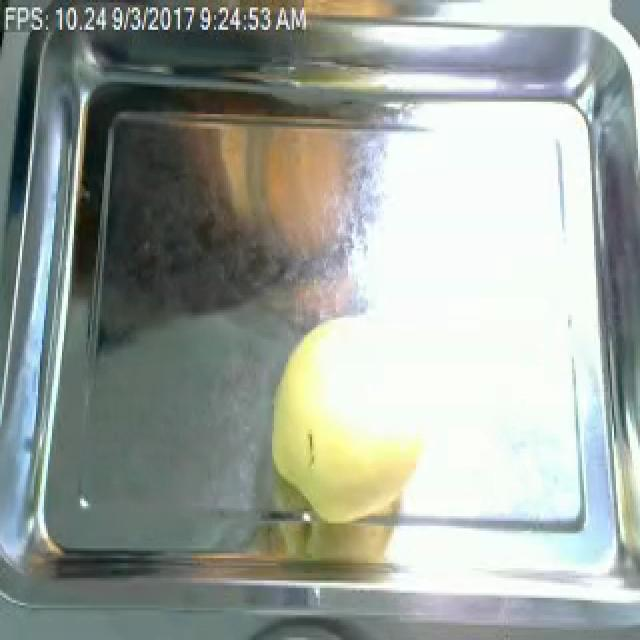Fruit: (258, 305, 438, 531)
